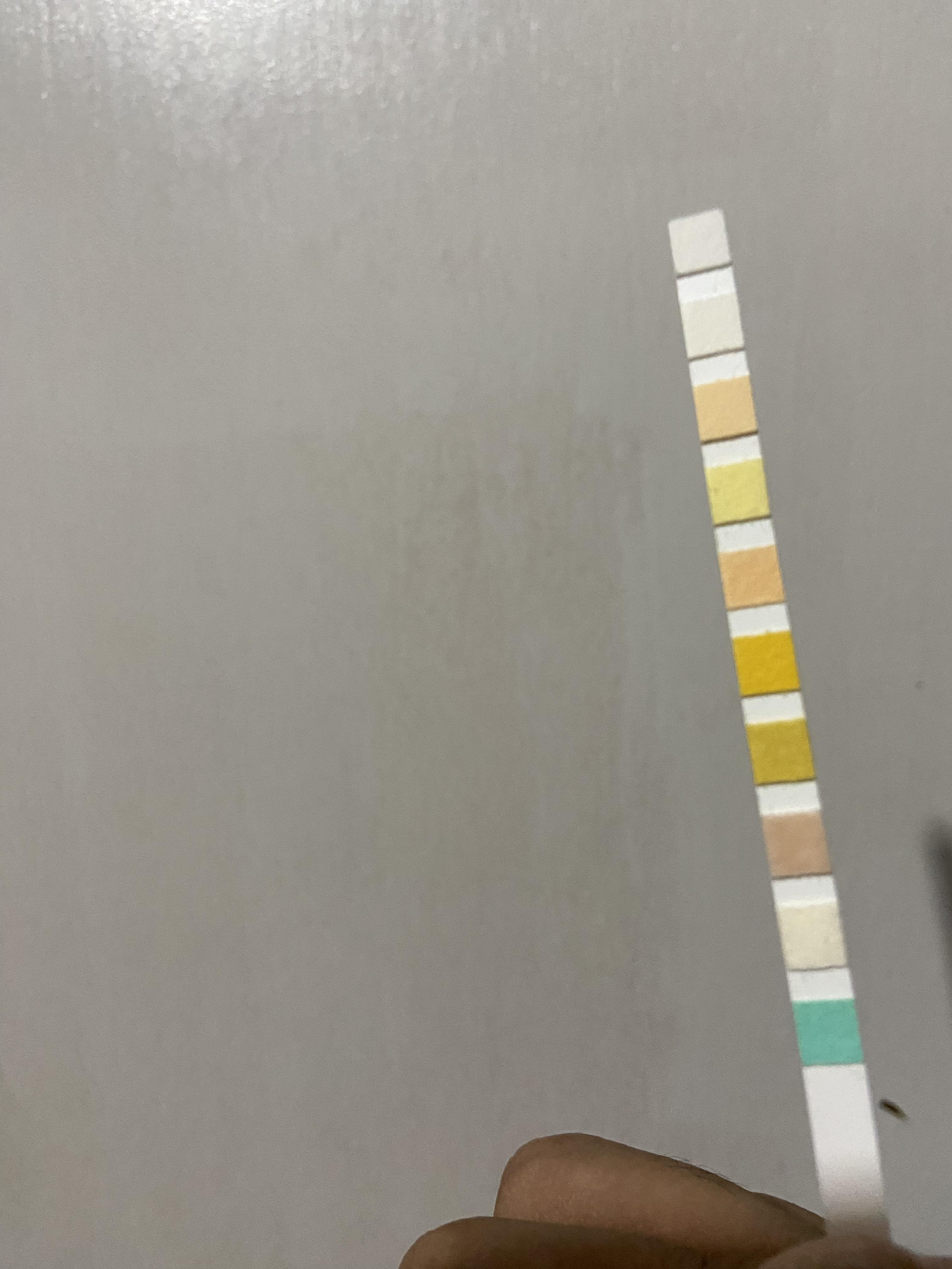Bilirubin: (784, 907, 838, 965)
Blood: (739, 637, 792, 689)
Glucose: (799, 1003, 856, 1063)
Ketone: (768, 817, 821, 872)
Leukocytes: (674, 220, 722, 263)
Nitrite: (687, 303, 738, 349)
Protein: (713, 468, 762, 516)
SpGravity: (752, 725, 807, 779)
Urobilinogen: (700, 385, 752, 430)
pH: (726, 553, 777, 603)
strip: (667, 210, 889, 1212)
